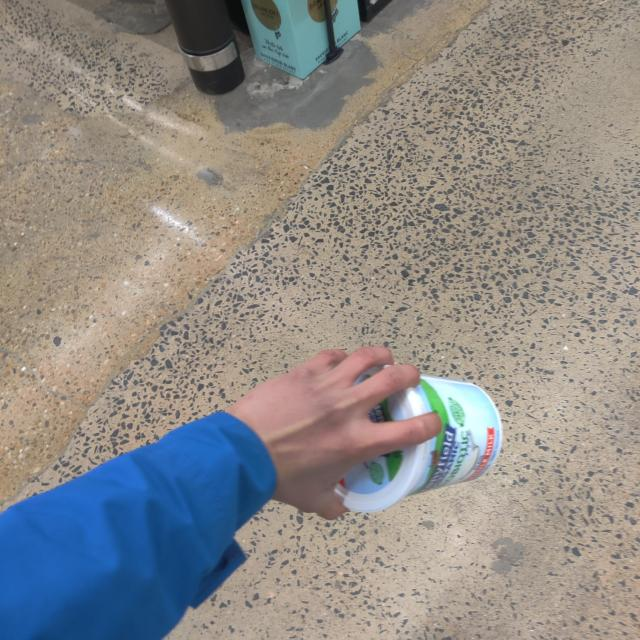Yogurt: (302, 354, 520, 513)
